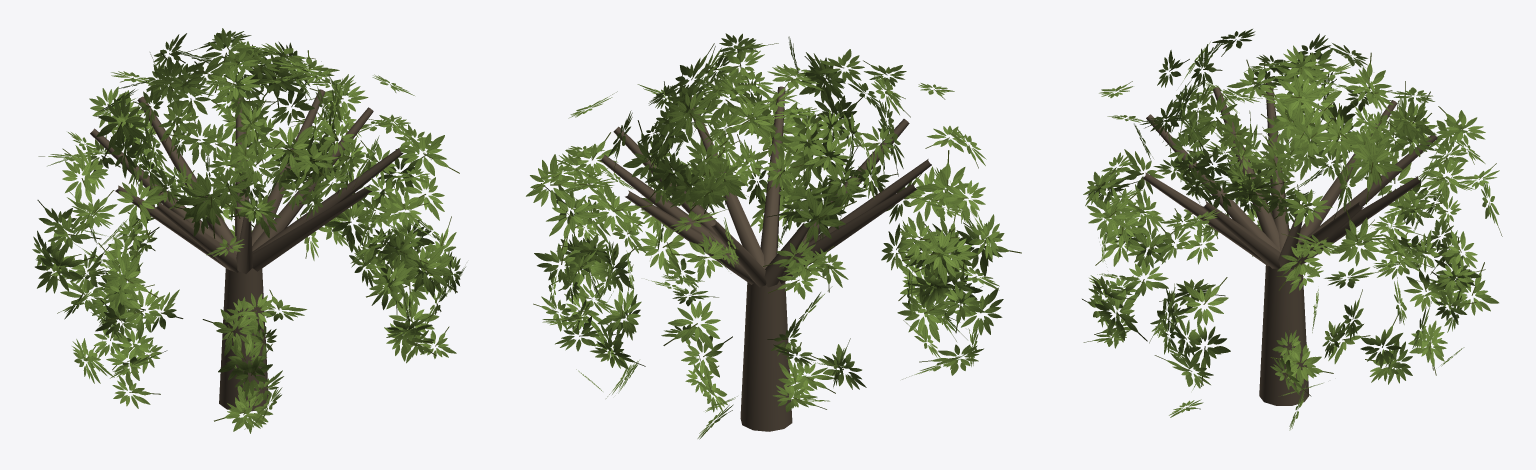
The model's file is willow.glb.
3 renders of one model, left to right at view 1: azimuth 30°, elevation 25°; view 2: azimuth 150°, elevation 25°; view 3: azimuth 270°, elevation 25°, orthographic. The views are drawn at different scales.
Visible parts, largest first — view 1: Willow; view 2: Willow; view 3: Willow.
Boxes of the visible parts, box(x1,y1,x2,y2) form: Willow: box(32, 28, 465, 433); Willow: box(526, 33, 1021, 439); Willow: box(1082, 29, 1502, 430).
Size of the model in its own units: 8.24 by 6.71 by 7.76.
Materials: 2 (1 with a texture image).
